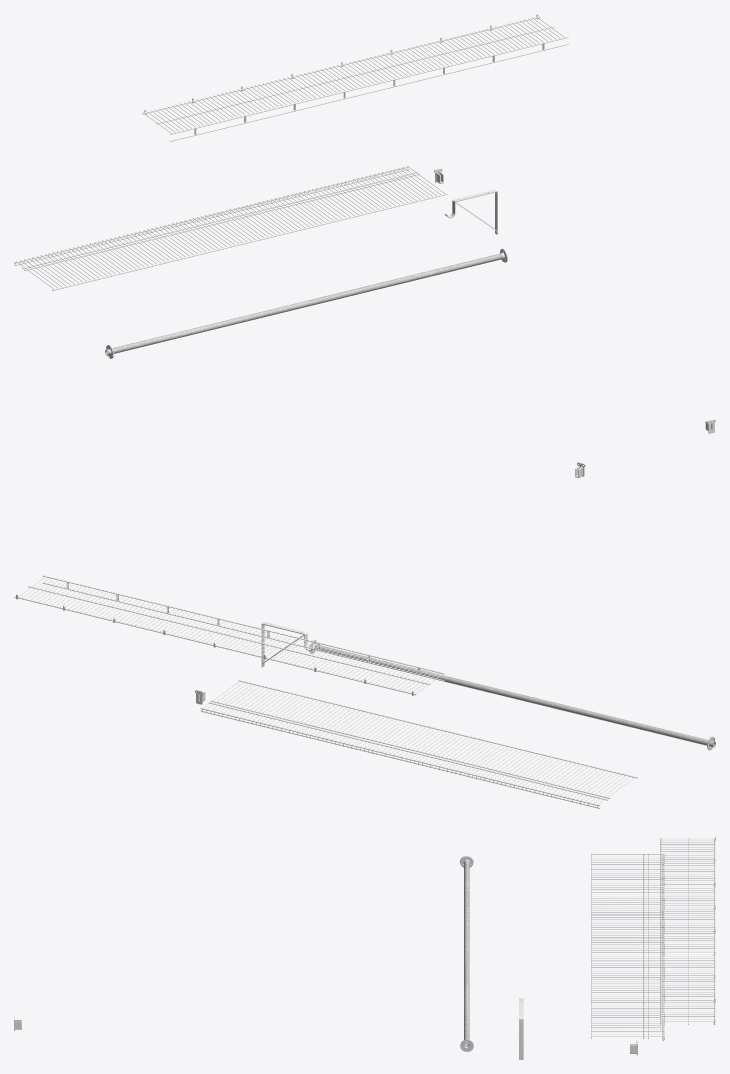
File: wireShelf.dae
The picture shows the model from 3 angles, top to bottom: view 1: azimuth 30°, elevation 25°; view 2: azimuth 150°, elevation 25°; view 3: azimuth 270°, elevation 25°; orthographic projection. The views are drawn at different scales.
Visible parts, largest first — view 1: Component_10; view 2: Component_10; view 3: Component_10.
Boxes of the visible parts, <box> form: Component_10: <box>105,253,502,355</box>; Component_10: <box>315,644,715,747</box>; Component_10: <box>464,858,469,1046</box>.
Size of the model in its own units: 137 by 155 by 26.31.
